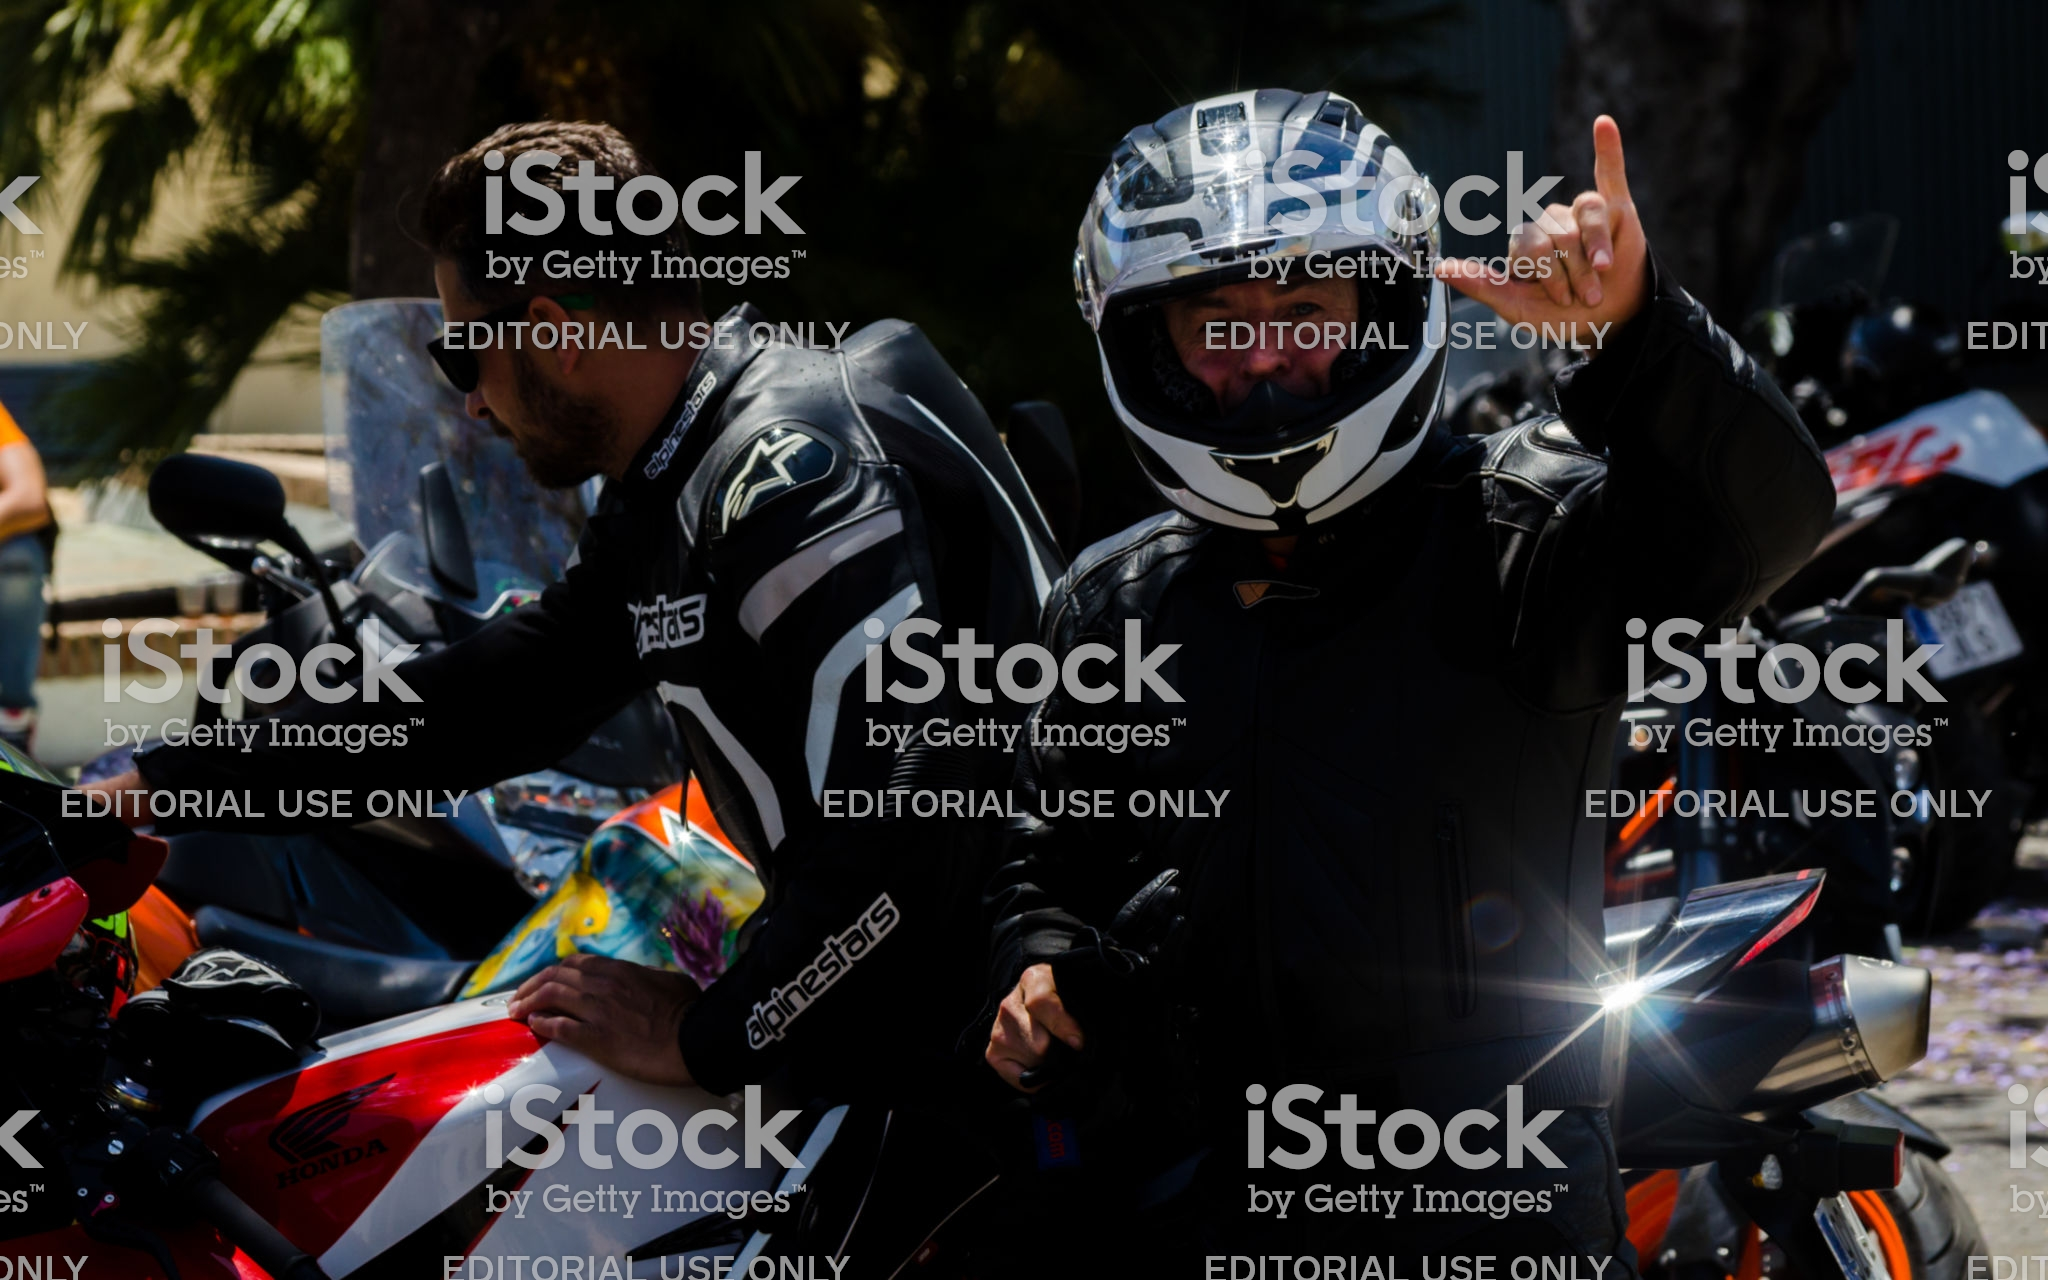helmet: (1063, 94, 1471, 552)
